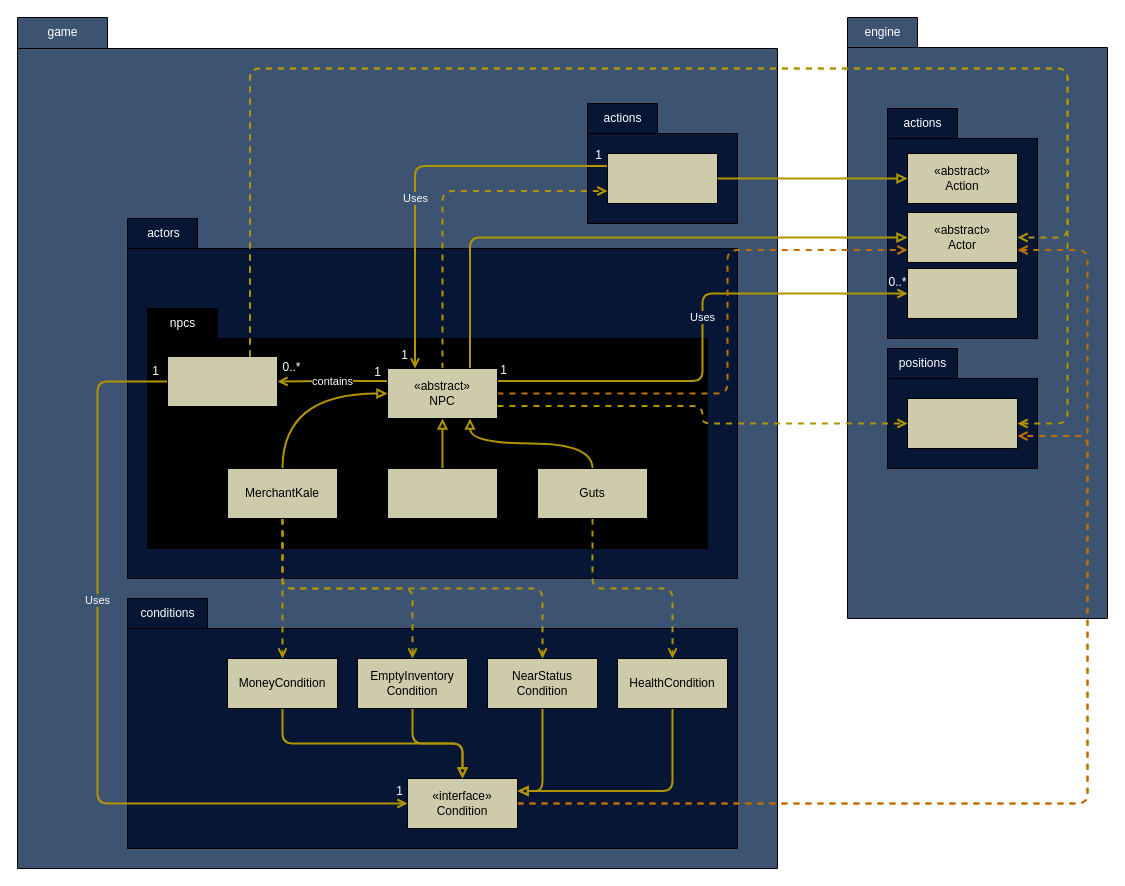
Image size: 1125x886. Some labels were removed from this diagram. The shapes that lost their labels are listed below. From the top down, each one's box as (x1, y1, x2, y2) in pixels, then its label:
(606, 152, 718, 204): ListenAction
(906, 268, 1018, 318): «interface» Behaviour
(166, 356, 278, 406): Monologue
(906, 398, 1018, 448): GameMap
(386, 468, 498, 518): Sellen
